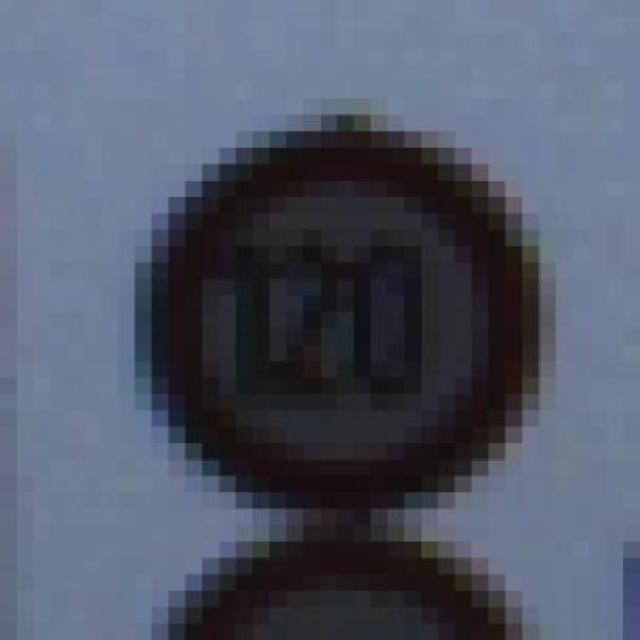forb_speed_over_120: (155, 136, 526, 501)
